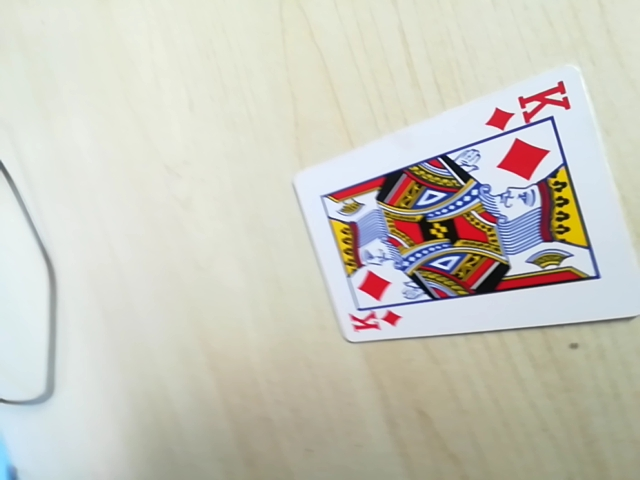fk k: (481, 79, 573, 133), (341, 304, 403, 340)
